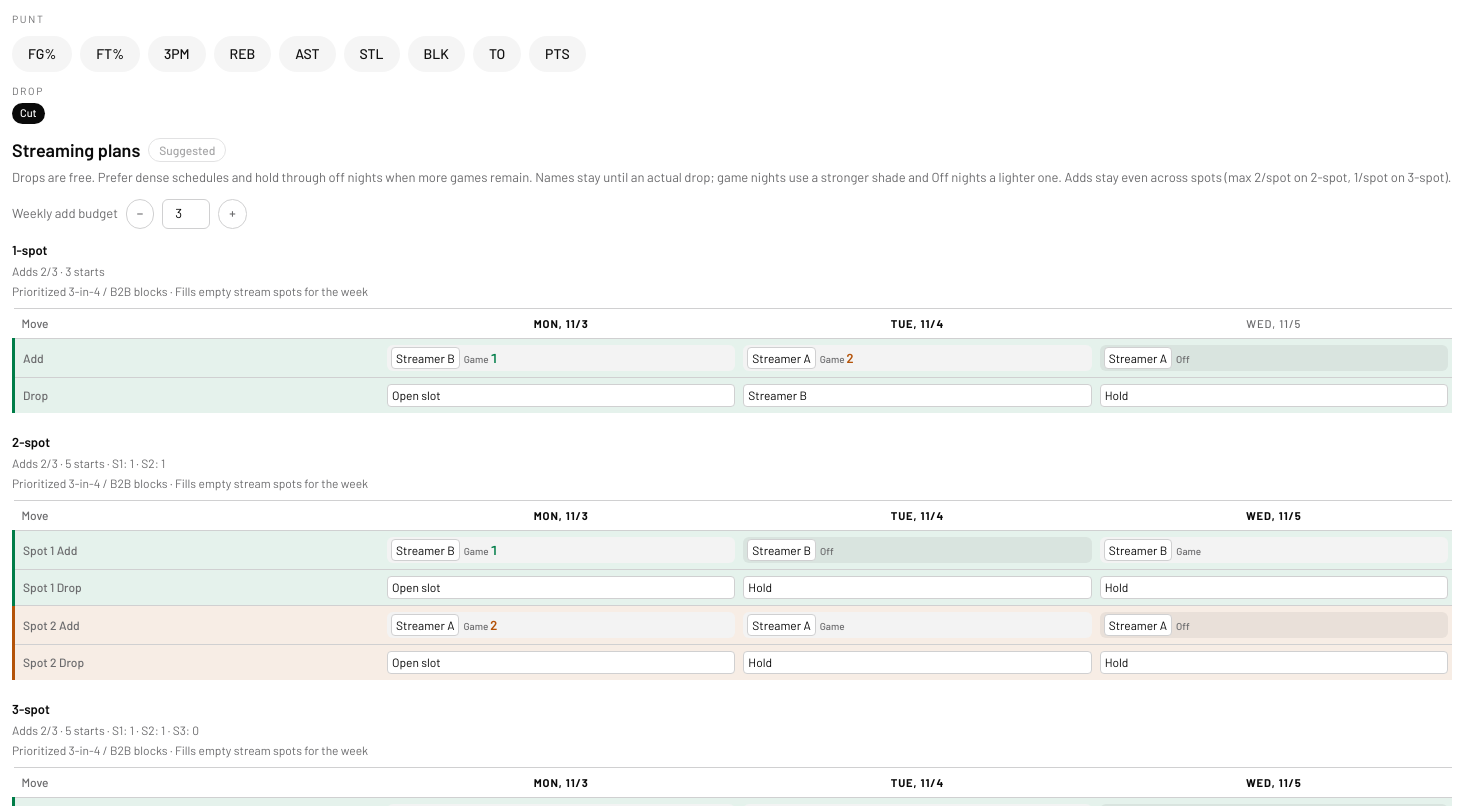
Test case: StreamingPlansPanel › shows also-consider alternatives in team then player panels
Click the dropdown named "Stream add". click: coordinates (425, 358)
box: [391,347,460,369]
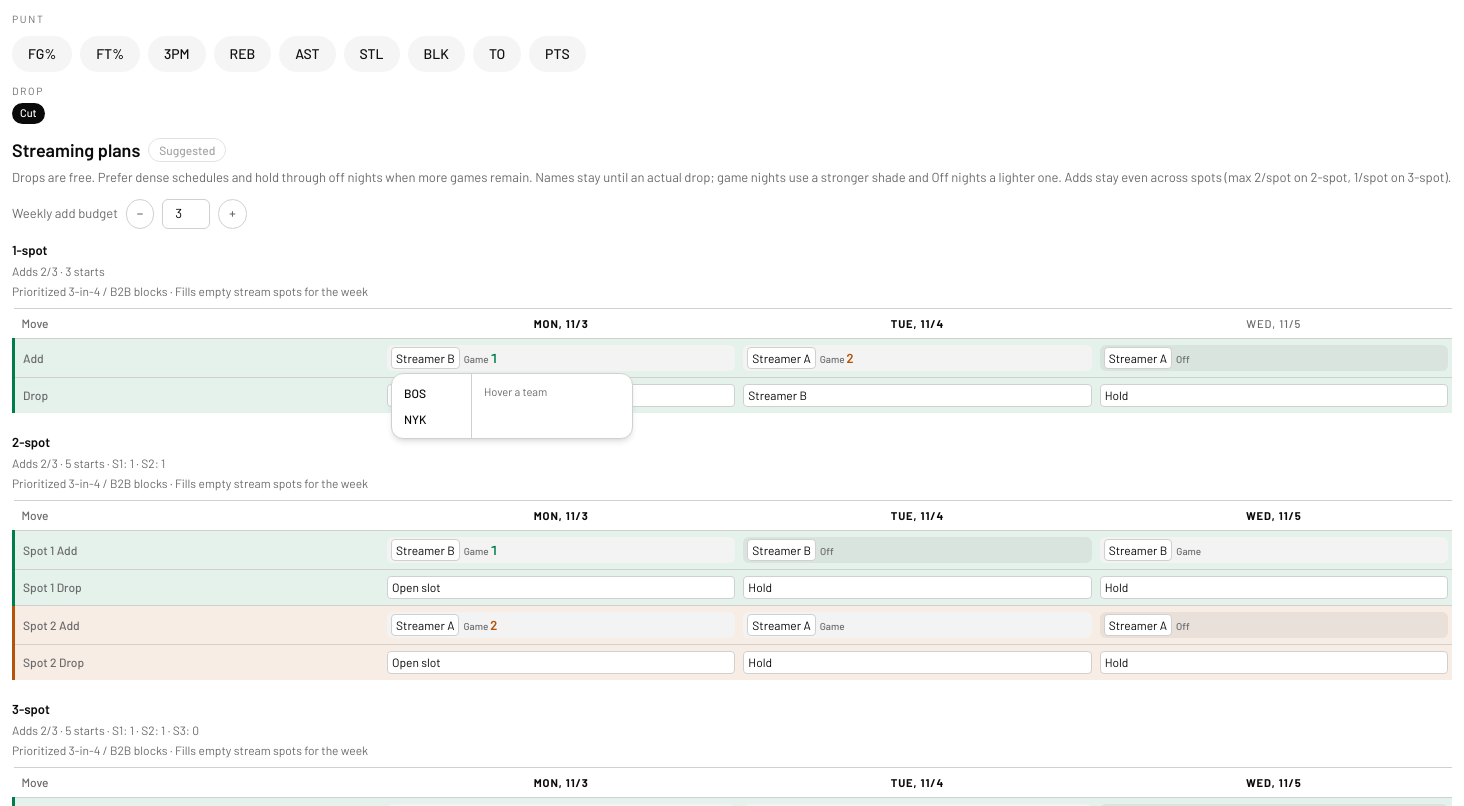
Result: the button with aria-label "Team BOS" is shown
Result: the button with aria-label "Team NYK" is shown at [398,406,465,432]
Hover over the button with aria-label "Team BOS" at coordinates (432, 393), box [398,380,465,406]
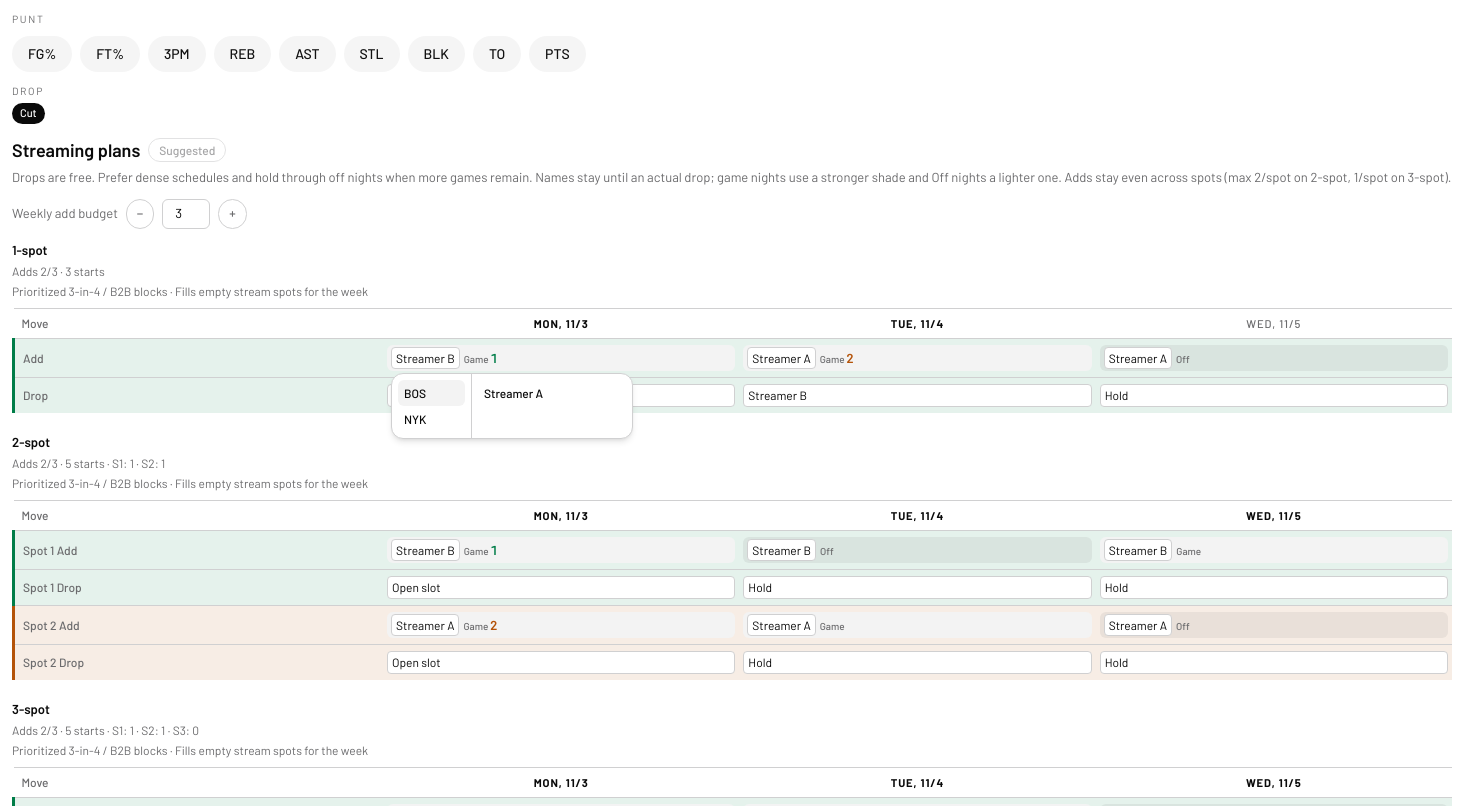
Result: the option with aria-label "Add Streamer A" is shown at [478,380,626,406]
Hover over the button with aria-label "Team NYK" at coordinates (432, 419), box [398,406,465,432]
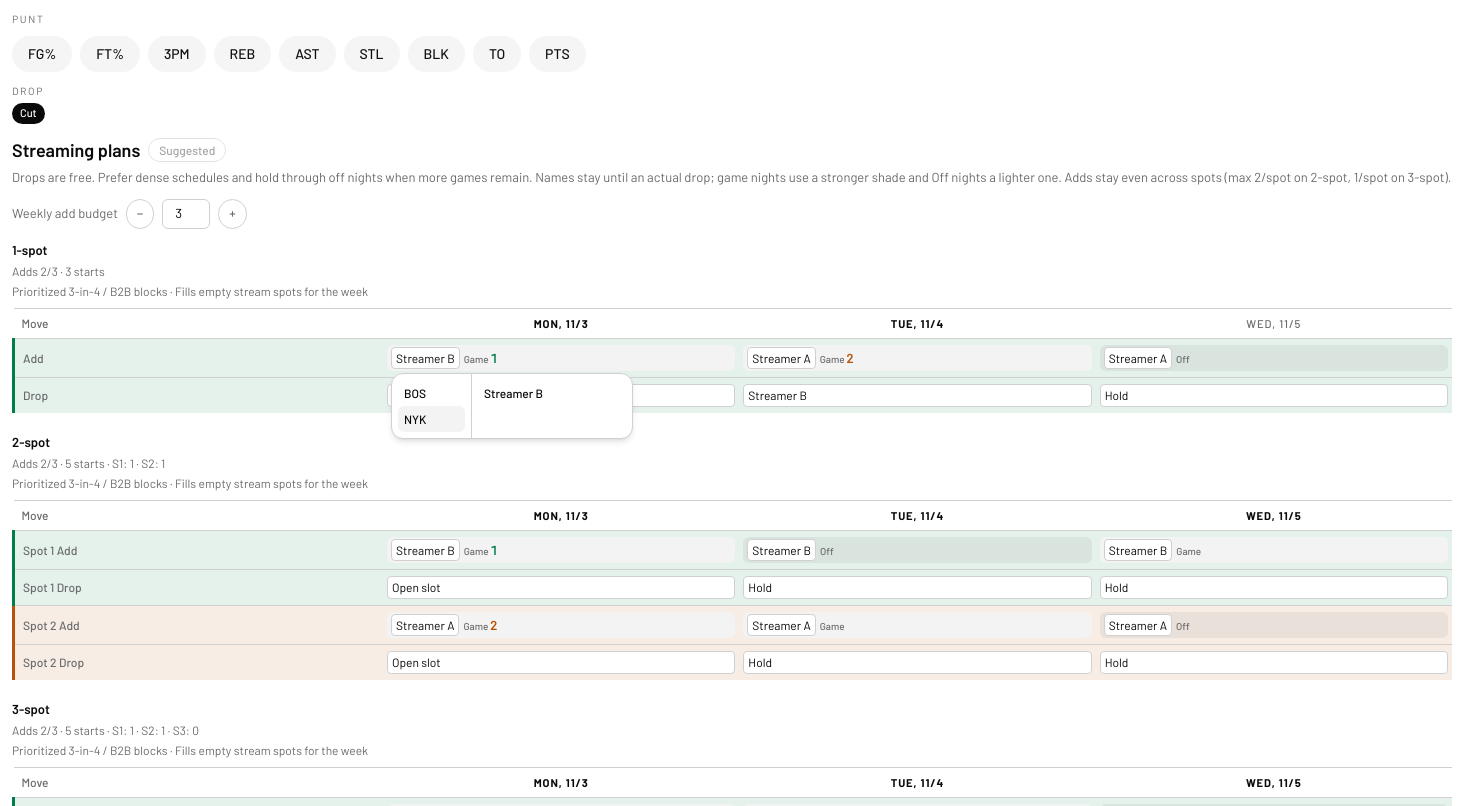
Result: the option with aria-label "Add Streamer B" is shown at [478,380,626,406]
